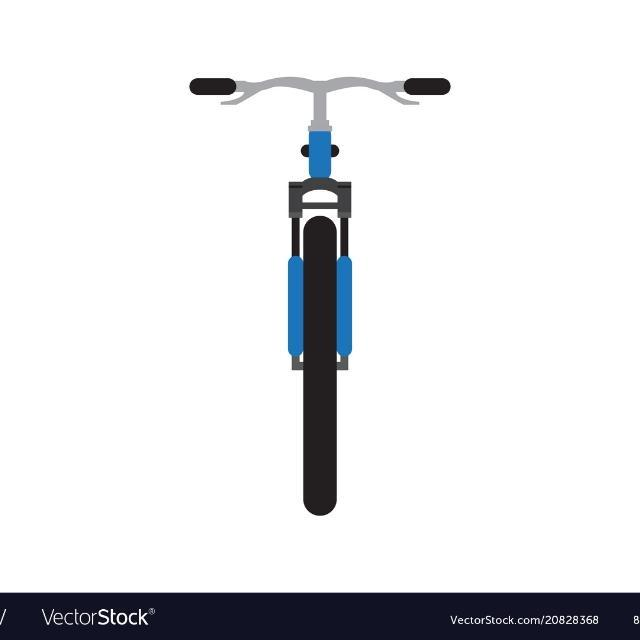obstacle: (180, 65, 472, 523)
